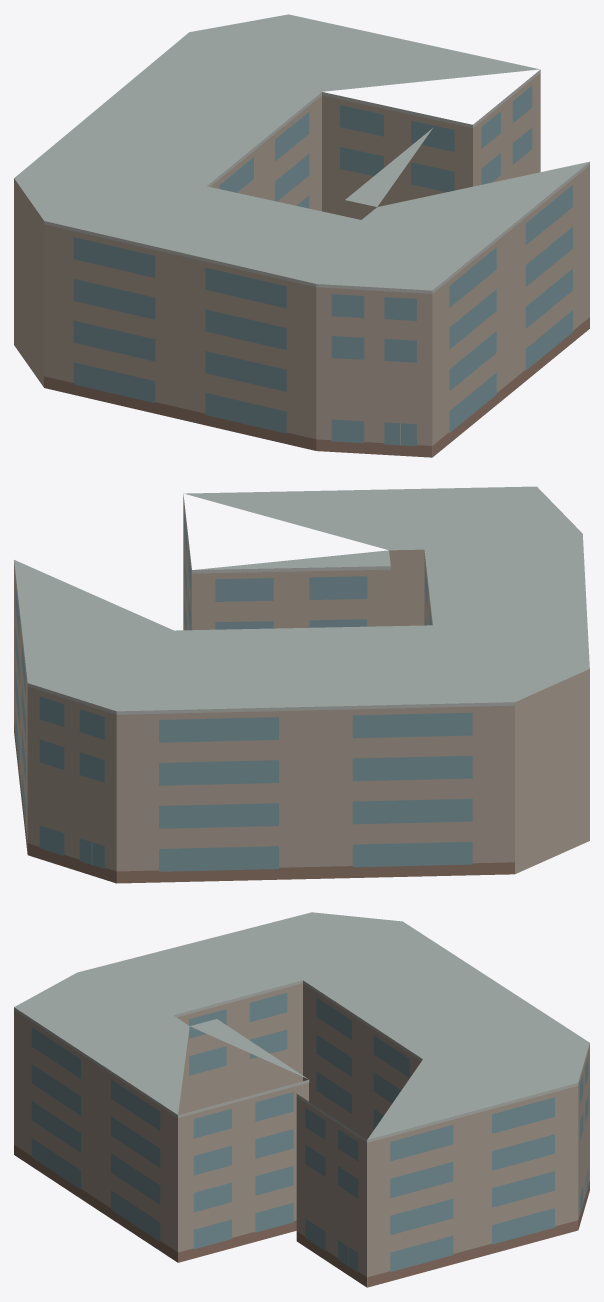
Rendered from residential-baf88261-da47-41d5-896e-0e15ba214137.glb.
The picture shows the model from 3 angles, top to bottom: view 1: azimuth 30°, elevation 25°; view 2: azimuth 150°, elevation 25°; view 3: azimuth 270°, elevation 25°; orthographic projection. The views are drawn at different scales.
Visible parts, largest first — view 1: residential-baf88261-da47-41d5-896e-0e15ba214137.tmp; view 2: residential-baf88261-da47-41d5-896e-0e15ba214137.tmp; view 3: residential-baf88261-da47-41d5-896e-0e15ba214137.tmp.
Boxes of the visible parts, left/top/right/bottom form: residential-baf88261-da47-41d5-896e-0e15ba214137.tmp: left=14, top=14, right=589, bottom=457; residential-baf88261-da47-41d5-896e-0e15ba214137.tmp: left=14, top=486, right=589, bottom=883; residential-baf88261-da47-41d5-896e-0e15ba214137.tmp: left=14, top=912, right=589, bottom=1287.
Bounding box in the file's own units: 40.34 × 12.2 × 43.11.
